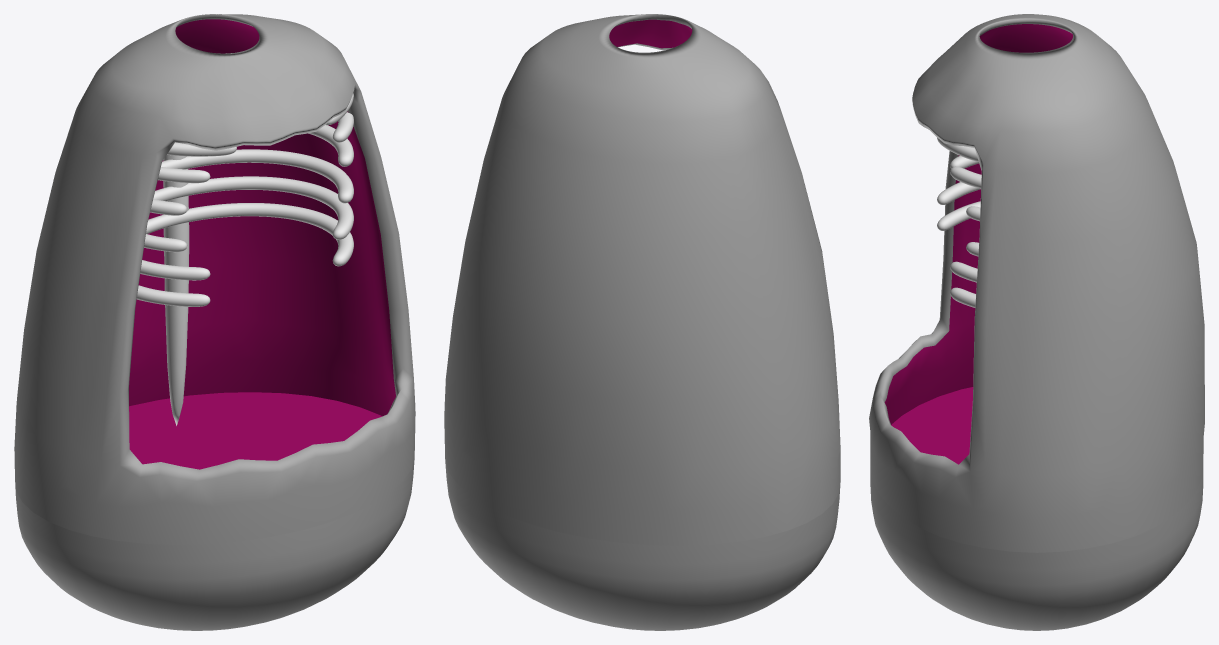
The model's file is carcass.fbx.
The picture shows the model from 3 angles, left to right: view 1: azimuth 30°, elevation 25°; view 2: azimuth 150°, elevation 25°; view 3: azimuth 270°, elevation 25°; orthographic projection. The views are drawn at different scales.
Visible parts, largest first — view 1: pPipe25; view 2: pPipe25; view 3: pPipe25.
Boxes of the visible parts, x1,y1,x2,y2 form: pPipe25: [14, 14, 415, 630]; pPipe25: [444, 14, 840, 630]; pPipe25: [869, 14, 1204, 630].
Bounding box in the file's own units: 9.39 × 14.3 × 7.69.
